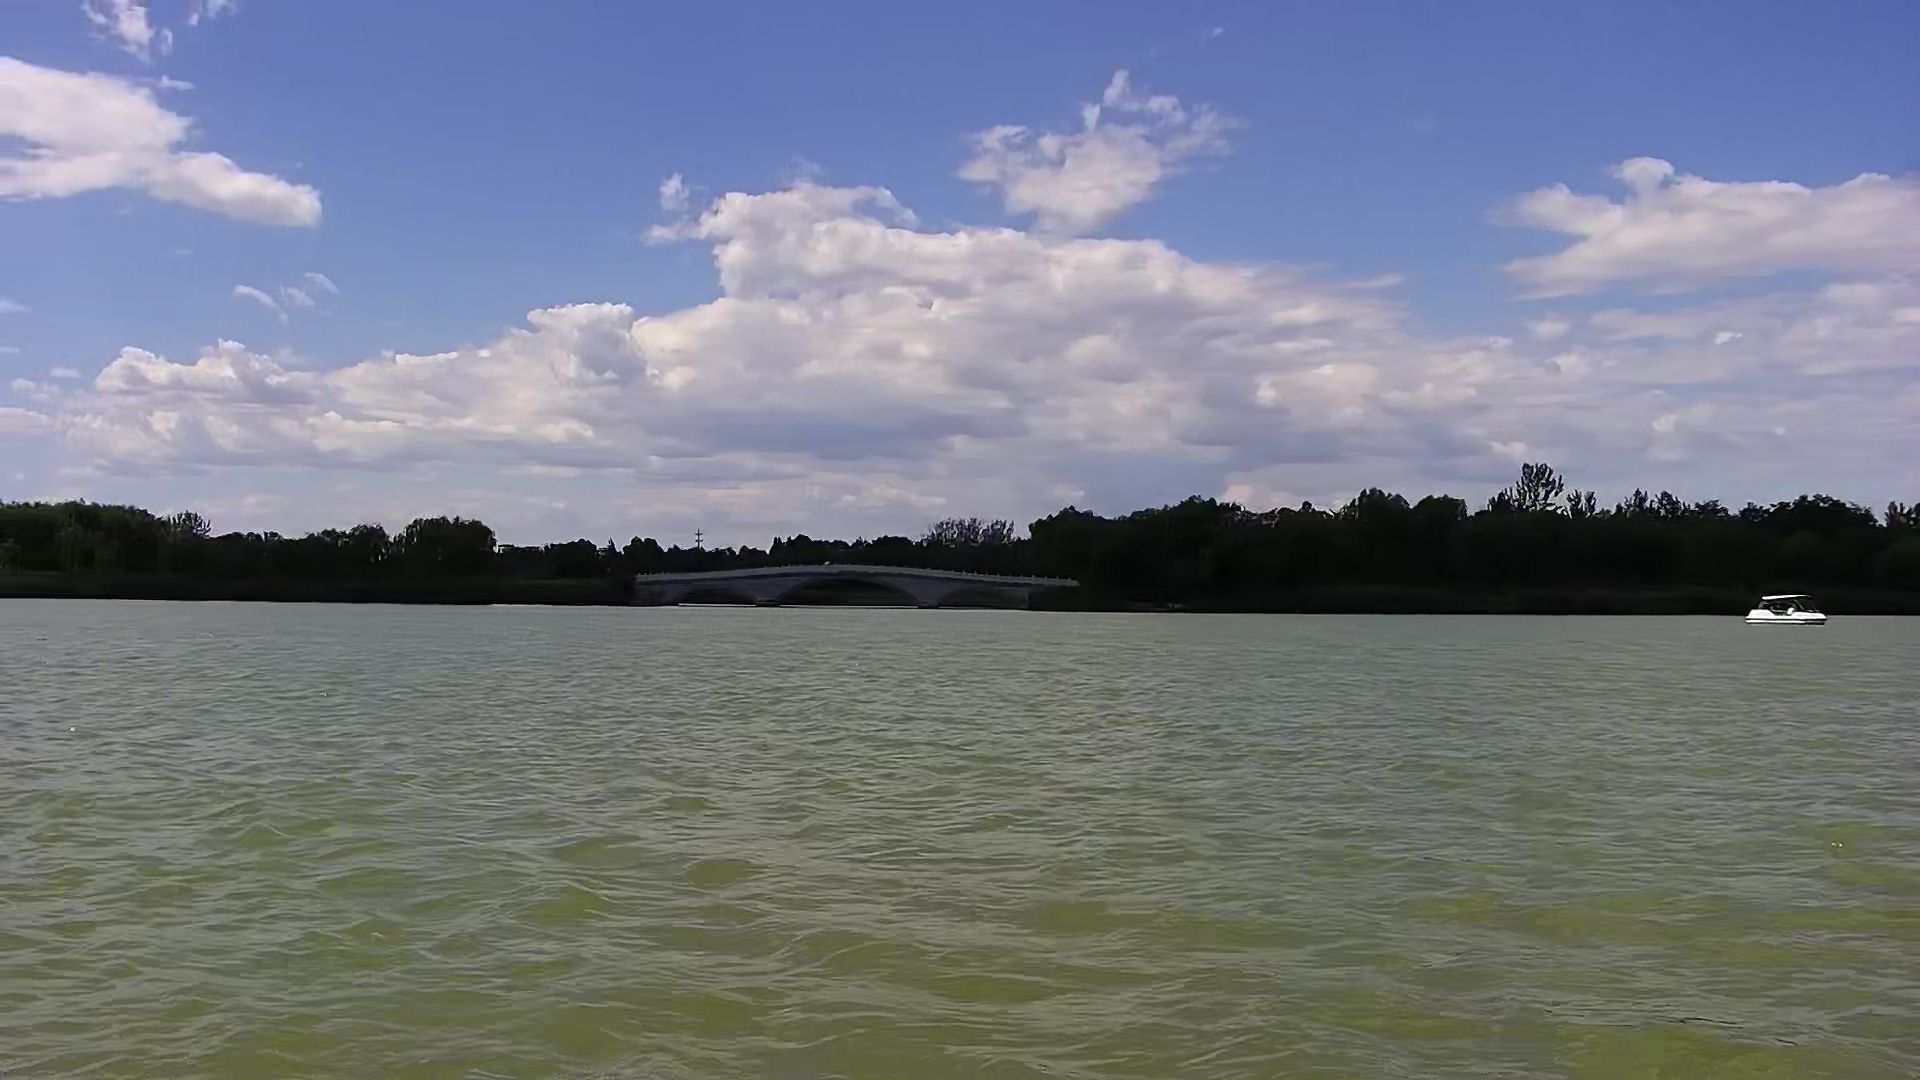boat: (1742, 585, 1826, 626)
bridge: (636, 560, 1083, 609)
